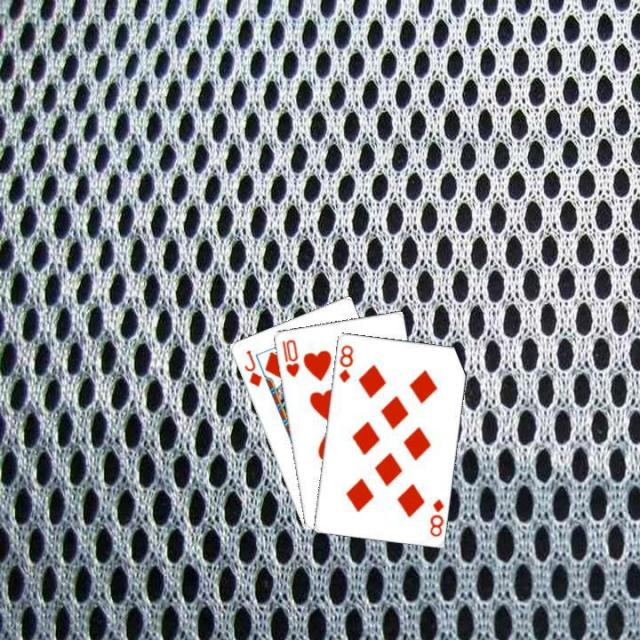10H: (278, 335, 300, 379)
8D: (335, 340, 355, 384), (426, 494, 445, 538)
JD: (240, 346, 263, 388)
